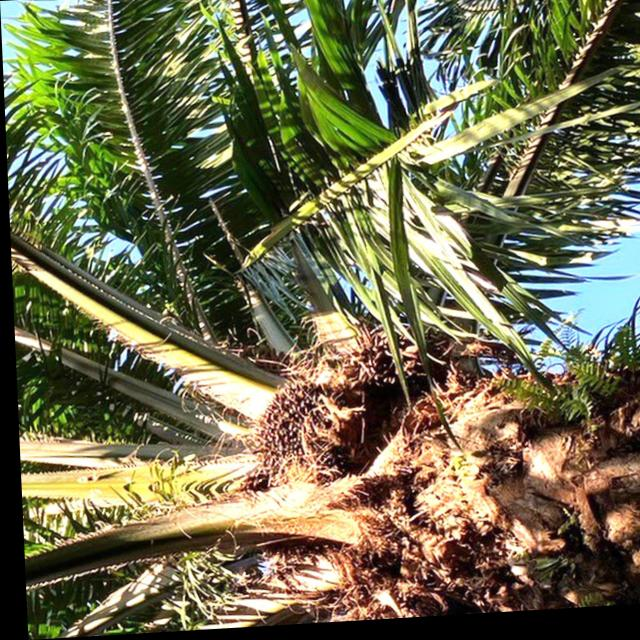almost: (234, 375, 351, 485)
